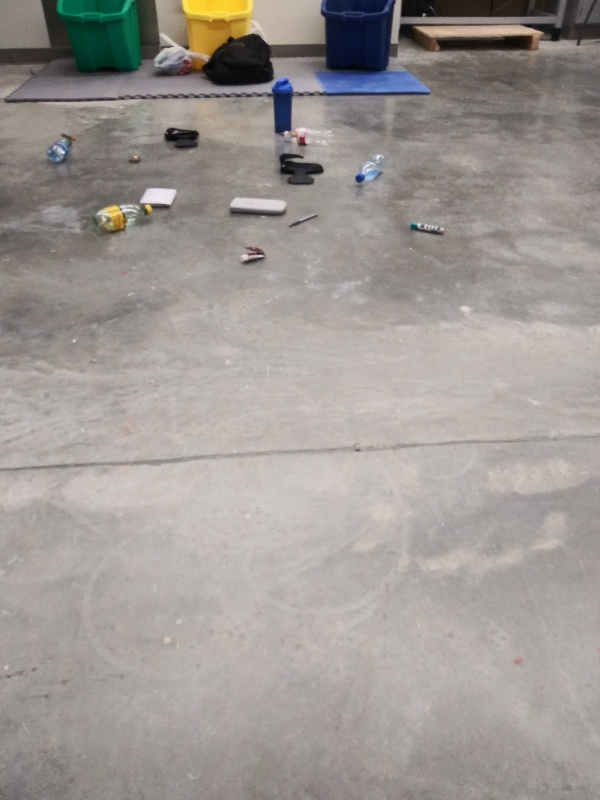bottle: (89, 201, 155, 240), (351, 149, 393, 188), (278, 125, 337, 150), (43, 135, 76, 168)
